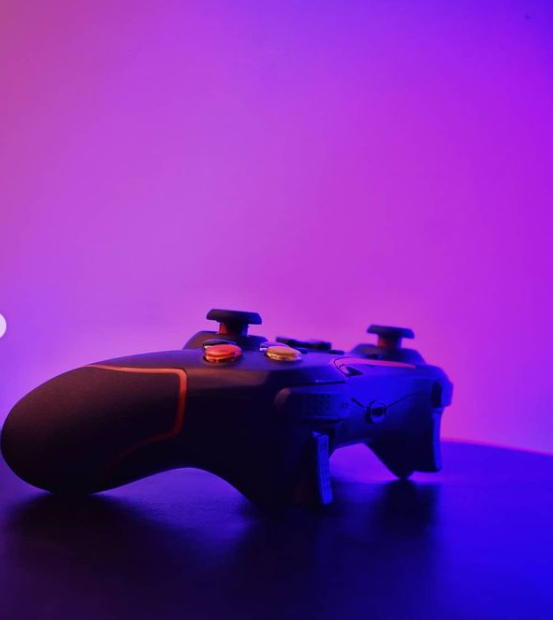gamingconsole: (1, 305, 449, 505)
